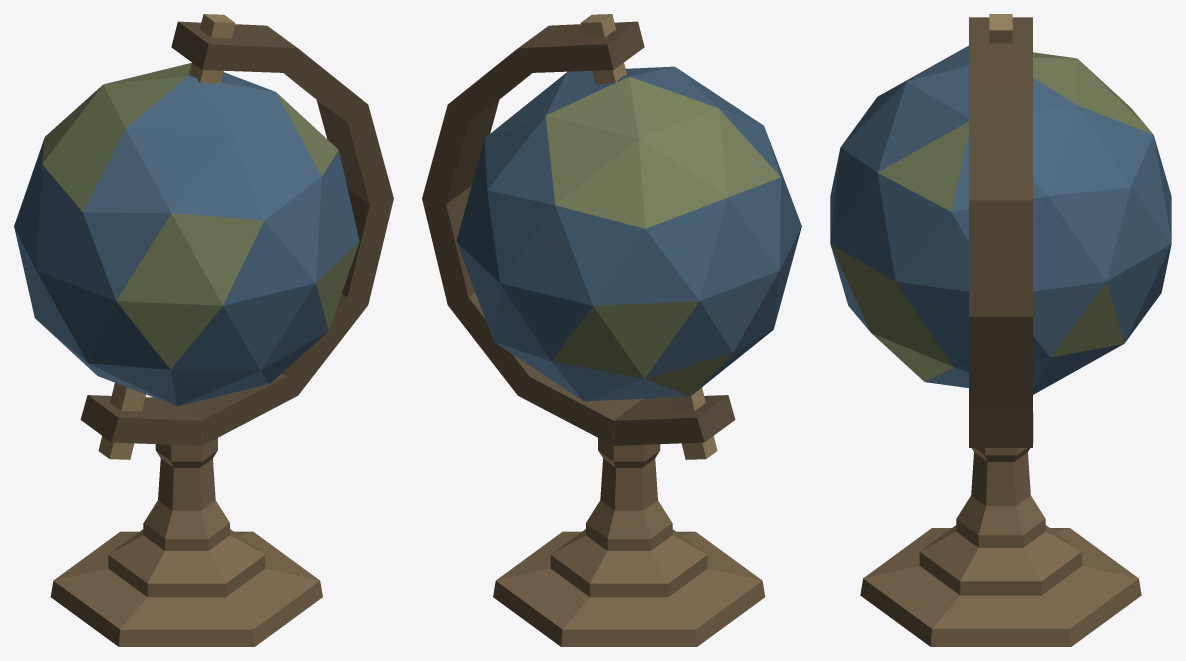
The model's file is Globe.fbx.
The picture shows the model from 3 angles, left to right: view 1: azimuth 30°, elevation 25°; view 2: azimuth 150°, elevation 25°; view 3: azimuth 270°, elevation 25°; orthographic projection. The views are drawn at different scales.
Parts seen in each view (by area): view 1: Globe; view 2: Globe; view 3: Globe.
Part boxes in pixels (left/top/right/bottom): Globe: left=14, top=14, right=393, bottom=646; Globe: left=422, top=14, right=801, bottom=646; Globe: left=830, top=14, right=1171, bottom=646.
Bounding box in the file's own units: 42.34 × 67.84 × 35.42.
Materials: 1 (1 with a texture image).
